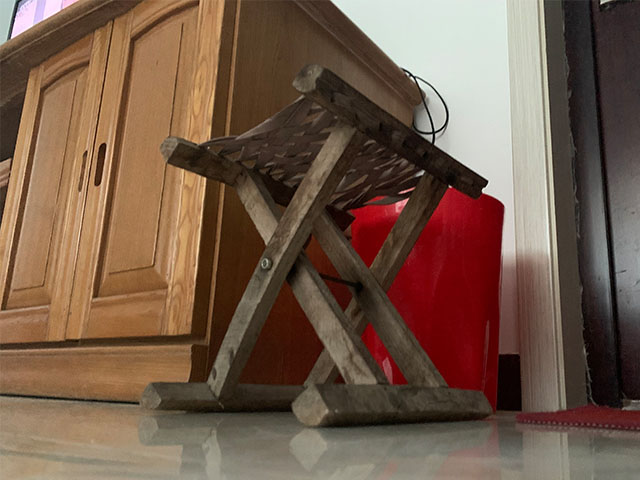cabinet: (1, 1, 427, 406)
carpet: (513, 403, 640, 433)
stool: (138, 61, 494, 429)
trashcan: (346, 187, 506, 415)
